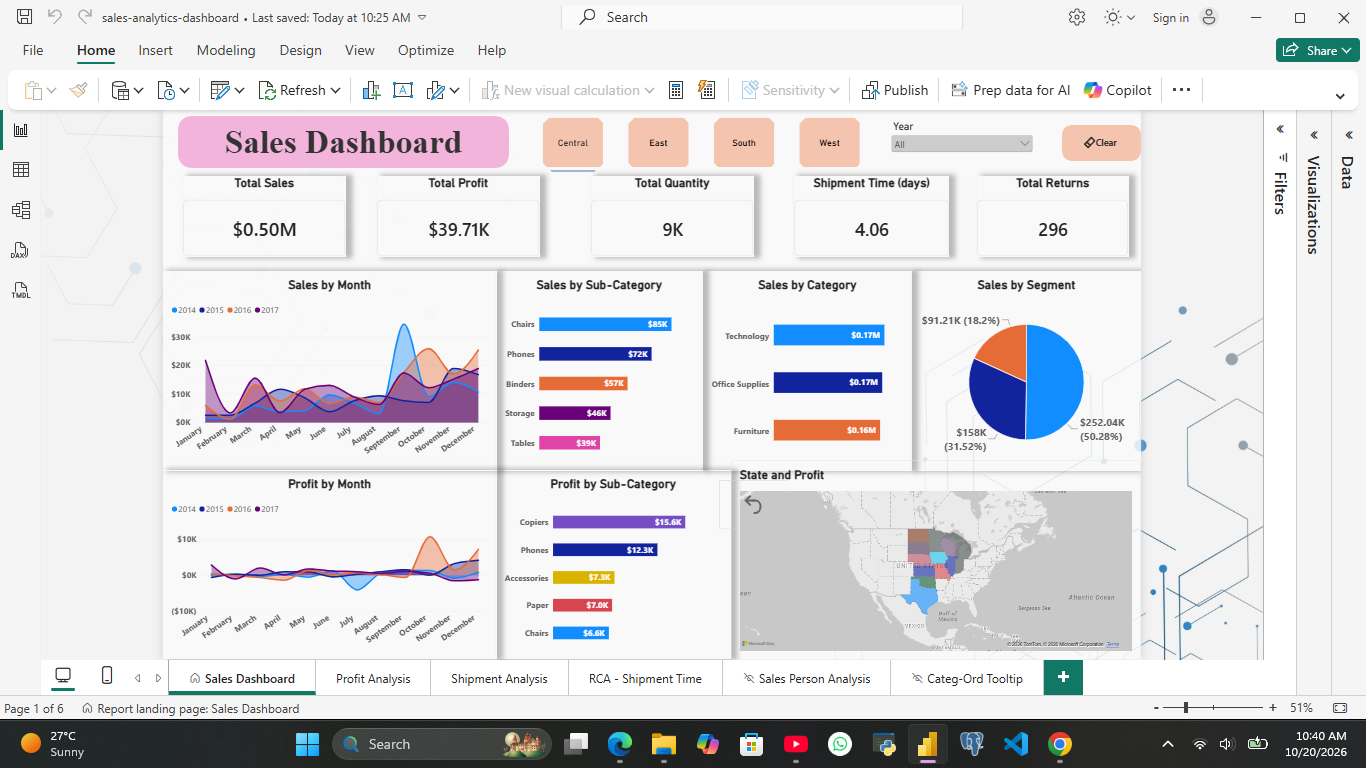

What the dashboard file says about the page in this screenshot:
{"tool":"powerbi","page":{"name":"Sales Dashboard","canvas":[1920,1080],"ordinal":0},"visuals":[{"type":"pieChart","title":"Sales by Segment","fields":{"Category":["Orders.Segment"],"Y":["Sum(Orders.Sales)"]},"box":[1470.1,315.2,449.6,392.3],"z":0},{"type":"barChart","title":"Sales by Category","fields":{"Category":["Orders.Category"],"Series":["Orders.Category"],"Y":["Sum(Orders.Sales)"]},"box":[1060.2,315.2,410,392.3],"z":1000},{"type":"barChart","title":"Sales by Sub-Category","fields":{"Category":["Orders.Sub-Category"],"Series":["Orders.Sub-Category"],"Y":["Sum(Orders.Sales)"]},"box":[654.6,315.2,405.6,392.3],"z":2000},{"type":"barChart","title":"Profit by Sub-Category","fields":{"Category":["Orders.Sub-Category"],"Series":["Orders.Sub-Category"],"Y":["Sum(Orders.Profit)"]},"box":[654.6,707.5,460.7,372.5],"z":3000},{"type":"areaChart","title":"Sales by Month","fields":{"Category":["Orders.Order Date.Variation.Date Hierarchy.Month"],"Series":["Orders.Order Date.Variation.Date Hierarchy.Year"],"Y":["Sum(Orders.Sales)"]},"box":[0,315.2,654.6,392.3],"z":4000},{"type":"areaChart","title":"Profit by Month","fields":{"Category":["Orders.Order Date.Variation.Date Hierarchy.Month"],"Series":["Orders.Order Date.Variation.Date Hierarchy.Year"],"Y":["Sum(Orders.Profit)"]},"box":[0,707.5,654.6,372.5],"z":5000},{"type":"filledMap","fields":{"Category":["Orders.State"],"Series":["Orders.Profit"]},"box":[1116.3,687.6,804.5,392.3],"z":6000},{"type":"cardVisual","title":"Total Sales","fields":{"Data":["Sum(Orders.Sales)"]},"box":[39.7,130,319.6,158.7],"z":6001},{"type":"cardVisual","title":"Total Profit","fields":{"Data":["Sum(Orders.Profit)"]},"box":[421,130,319.6,158.7],"z":6002},{"type":"cardVisual","title":"Total Quantity","fields":{"Data":["Sum(Orders.Quantity)"]},"box":[839.8,130,319.6,158.7],"z":6003},{"type":"cardVisual","title":"Shipment Time (days)","fields":{"Data":["Avg(Orders.Shipment Time)"]},"box":[1238.7,130,304.2,158.7],"z":6004},{"type":"cardVisual","title":"Total Returns","fields":{"Data":["CountNonNull(Return_data.Order ID)"]},"box":[1598,130,297.6,158.7],"z":6005},{"type":"advancedSlicerVisual","fields":{"Values":["SalesPerson.Region"]},"box":[704.9,0,704.9,129.6],"z":6006},{"type":"slicer","title":"Year","fields":{"Values":["Orders.Order Date.Variation.Date Hierarchy.Year"]},"box":[1425.6,19.6,286.7,110],"z":6007},{"type":"shape","box":[29.5,11.8,650,102.1],"z":6008},{"type":"actionButton","box":[1765.3,29.5,155.1,70.7],"z":6009},{"type":"actionButton","box":[1091.8,726.1,134.5,96.8],"z":6011}]}

Visuals, with their boxes on the page's 1920x1080 design canvas (x1, y1, x2, y2). These are canvas units, not pixel positions in the 1366x768 screenshot, which may show the page scaled, cropped or inside an application window:
"Sales by Segment" pieChart: rect(1470, 315, 1920, 708)
"Sales by Category" barChart: rect(1060, 315, 1470, 708)
"Sales by Sub-Category" barChart: rect(655, 315, 1060, 708)
"Profit by Sub-Category" barChart: rect(655, 708, 1115, 1080)
"Sales by Month" areaChart: rect(0, 315, 655, 708)
"Profit by Month" areaChart: rect(0, 708, 655, 1080)
filledMap - Orders.State x Orders.Profit: rect(1116, 688, 1921, 1080)
"Total Sales" cardVisual: rect(40, 130, 359, 289)
"Total Profit" cardVisual: rect(421, 130, 741, 289)
"Total Quantity" cardVisual: rect(840, 130, 1159, 289)
"Shipment Time (days)" cardVisual: rect(1239, 130, 1543, 289)
"Total Returns" cardVisual: rect(1598, 130, 1896, 289)
advancedSlicerVisual - SalesPerson.Region: rect(705, 0, 1410, 130)
"Year" slicer: rect(1426, 20, 1712, 130)
shape: rect(30, 12, 680, 114)
actionButton: rect(1765, 30, 1920, 100)
actionButton: rect(1092, 726, 1226, 823)
